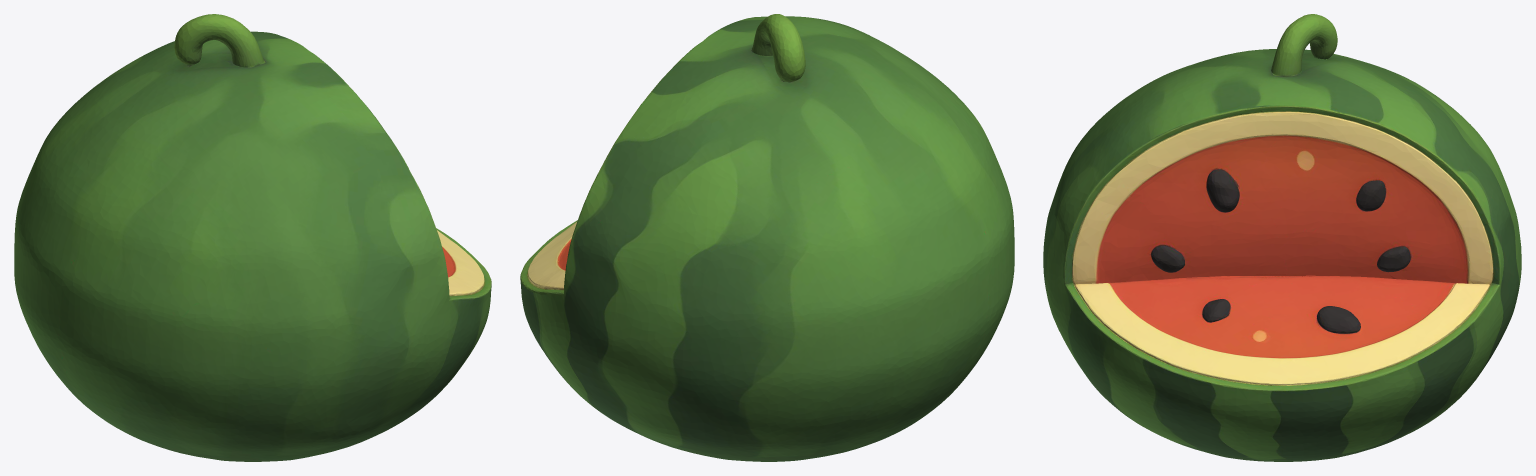
The model's file is meal_4.glb.
The picture shows the model from 3 angles, left to right: view 1: azimuth 30°, elevation 25°; view 2: azimuth 150°, elevation 25°; view 3: azimuth 270°, elevation 25°; orthographic projection. The views are drawn at different scales.
Parts seen in each view (by area): view 1: tripo_node_e7a85bc8-3a13-445e-b57f-3dc79391583a; view 2: tripo_node_e7a85bc8-3a13-445e-b57f-3dc79391583a; view 3: tripo_node_e7a85bc8-3a13-445e-b57f-3dc79391583a.
Boxes of the visible parts, x1,y1,x2,y2 form: tripo_node_e7a85bc8-3a13-445e-b57f-3dc79391583a: [14, 14, 491, 461]; tripo_node_e7a85bc8-3a13-445e-b57f-3dc79391583a: [520, 14, 1014, 461]; tripo_node_e7a85bc8-3a13-445e-b57f-3dc79391583a: [1043, 14, 1521, 461].
Bounding box in the file's own units: 0.9563 × 0.8871 × 1.
Materials: 1 (1 with a texture image).
